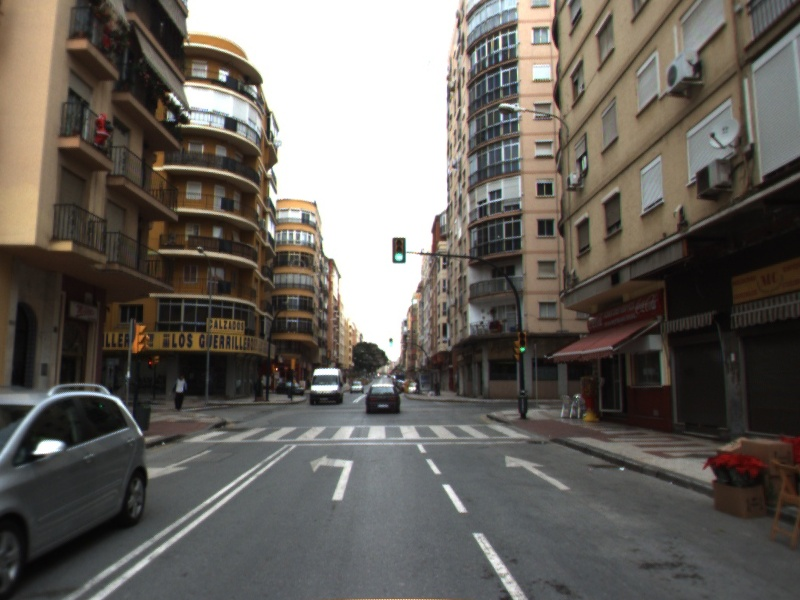LEFT: (307, 453, 355, 503)
STRAIGHT: (503, 453, 574, 492)
